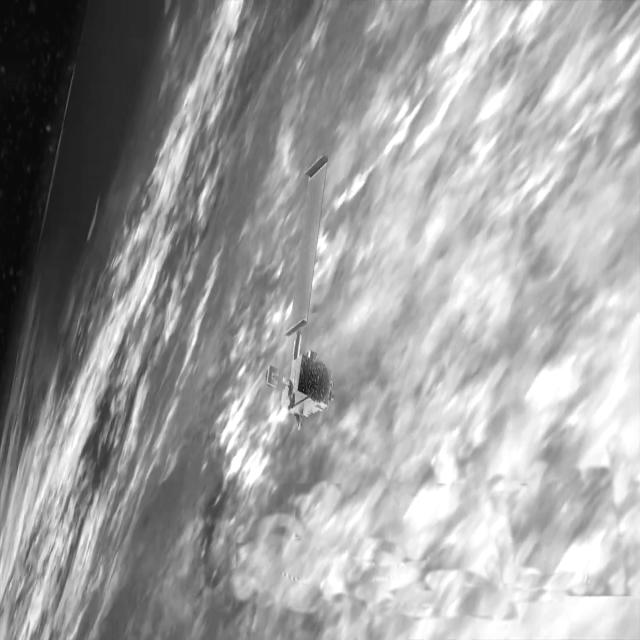medium_debris: (247, 133, 357, 444)
